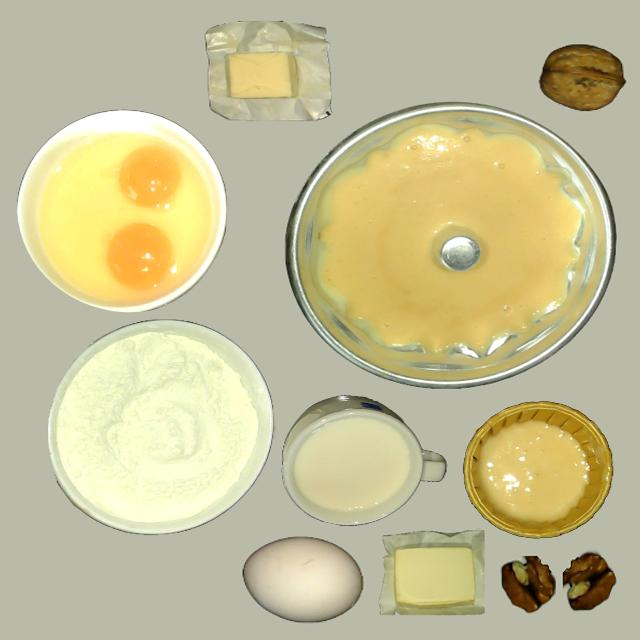Egg: (106, 223, 174, 289), (118, 146, 184, 208)
Flour: (46, 320, 268, 532)
Milk: (297, 419, 408, 511)
Walnut: (539, 44, 625, 112)
